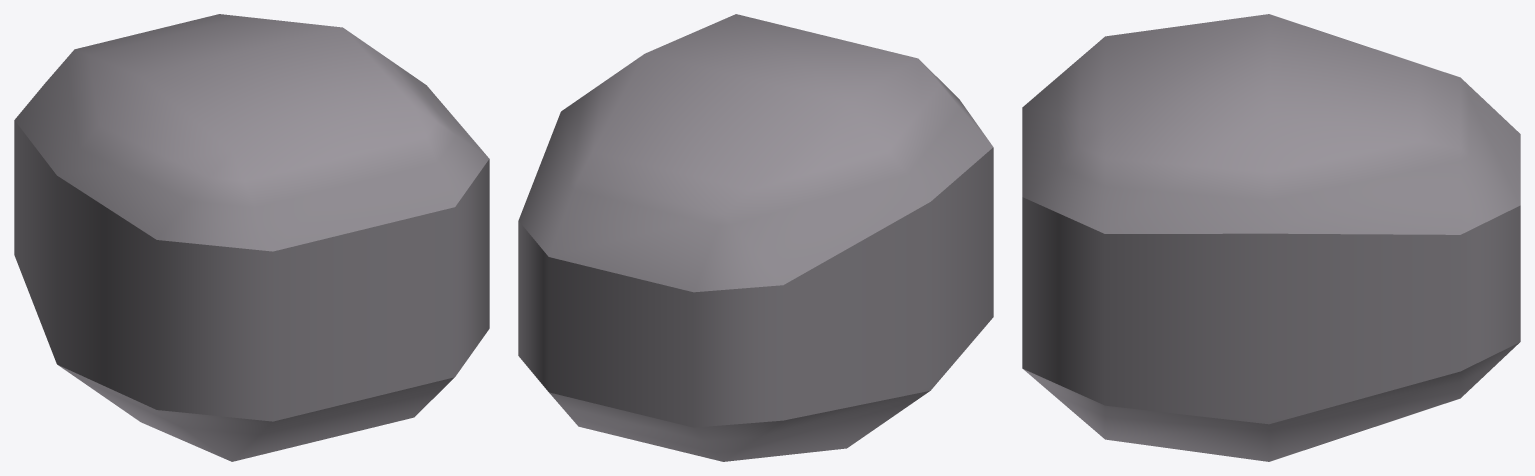
The model's file is Projectile_Boss_3_Stone_Golem.fbx.
3 renders of one model, left to right at view 1: azimuth 30°, elevation 25°; view 2: azimuth 150°, elevation 25°; view 3: azimuth 270°, elevation 25°, orthographic.
Parts seen in each view (by area): view 1: Projectile_Boss_3_Stone_Golem; view 2: Projectile_Boss_3_Stone_Golem; view 3: Projectile_Boss_3_Stone_Golem.
Part boxes in pixels (left/top/right/bottom): Projectile_Boss_3_Stone_Golem: left=14, top=14, right=489, bottom=461; Projectile_Boss_3_Stone_Golem: left=518, top=14, right=993, bottom=461; Projectile_Boss_3_Stone_Golem: left=1022, top=14, right=1520, bottom=461.
Size of the model in its own units: 0.00787 by 0.00703 by 0.00911.
